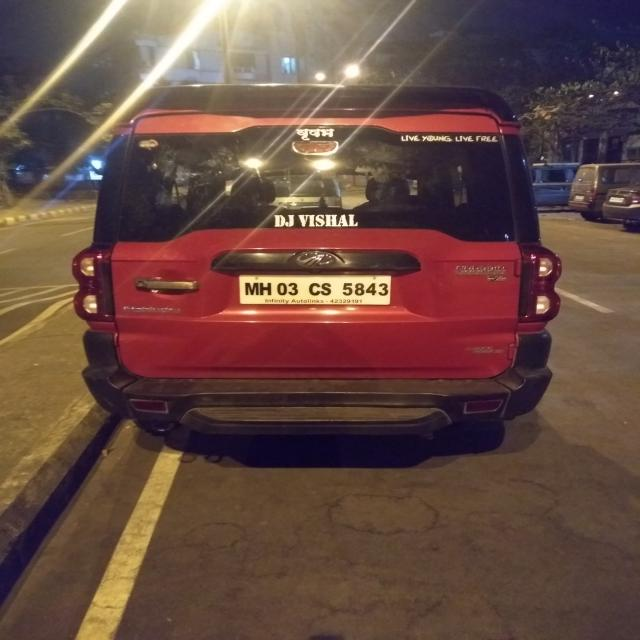Number-Plate: (239, 272, 391, 304)
